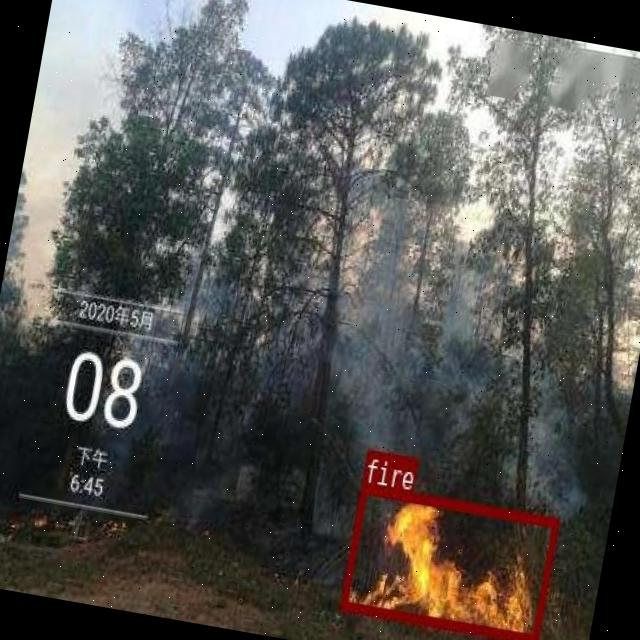fire: (338, 481, 558, 640)
